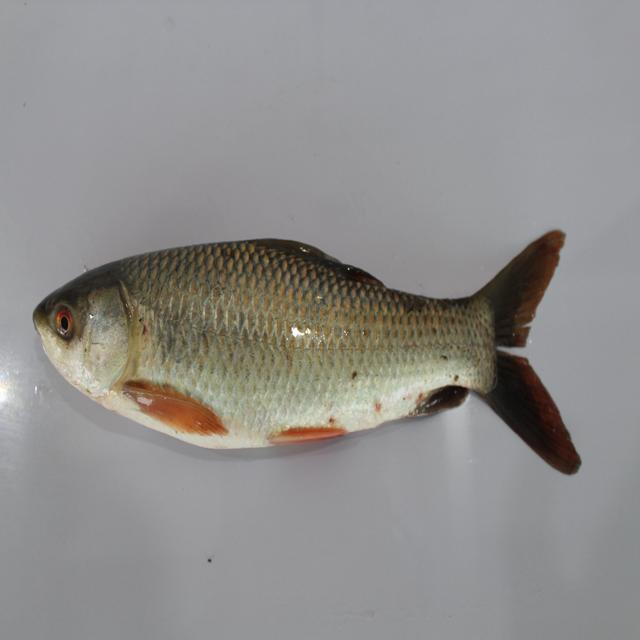Rohu: (22, 245, 592, 485)
